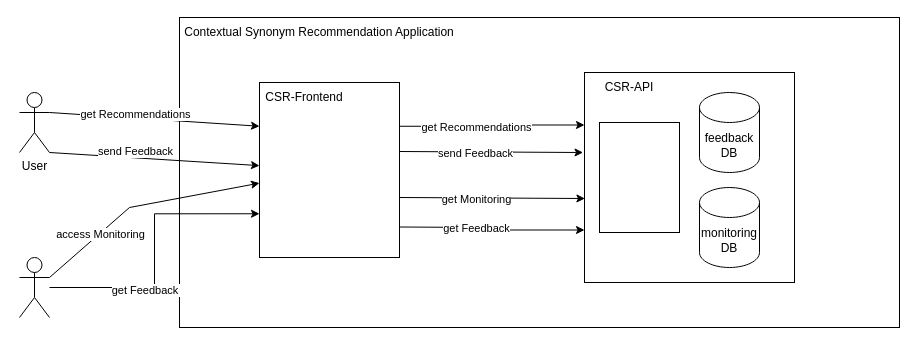
Some shapes in this 917 by 356 pixel diagram are drawn without their labels. Here are the shapes that lost their labels. From the top down, the centre of each, then its label:
At point 639,177: "AI-Magic".
At point 34,287: "Admin".
